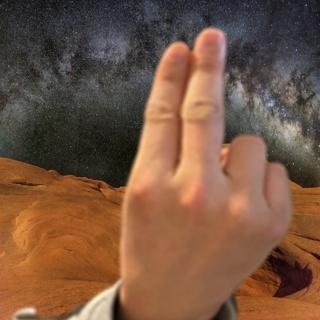DHAVE: (110, 23, 296, 319)
